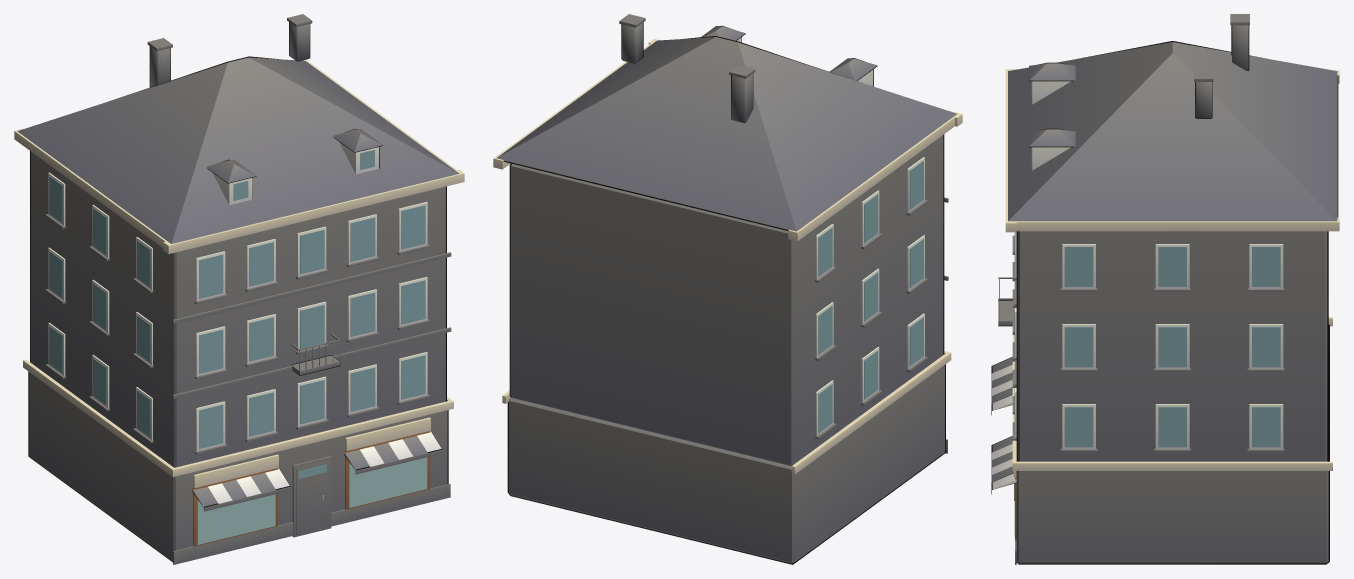
File: Bina_Berhaz.fbx
The picture shows the model from 3 angles, left to right: view 1: azimuth 30°, elevation 25°; view 2: azimuth 150°, elevation 25°; view 3: azimuth 270°, elevation 25°; orthographic projection. The views are drawn at different scales.
Parts seen in each view (by area): view 1: Bina_Berhaz; view 2: Bina_Berhaz; view 3: Bina_Berhaz.
Boxes of the visible parts, x1=… form: Bina_Berhaz: x1=14, y1=14, x2=464, y2=564; Bina_Berhaz: x1=493, y1=14, x2=962, y2=564; Bina_Berhaz: x1=991, y1=14, x2=1339, y2=564.
Bounding box in the file's own units: 14.04 × 19.49 × 13.39.
Materials: 4 (1 with a texture image).
